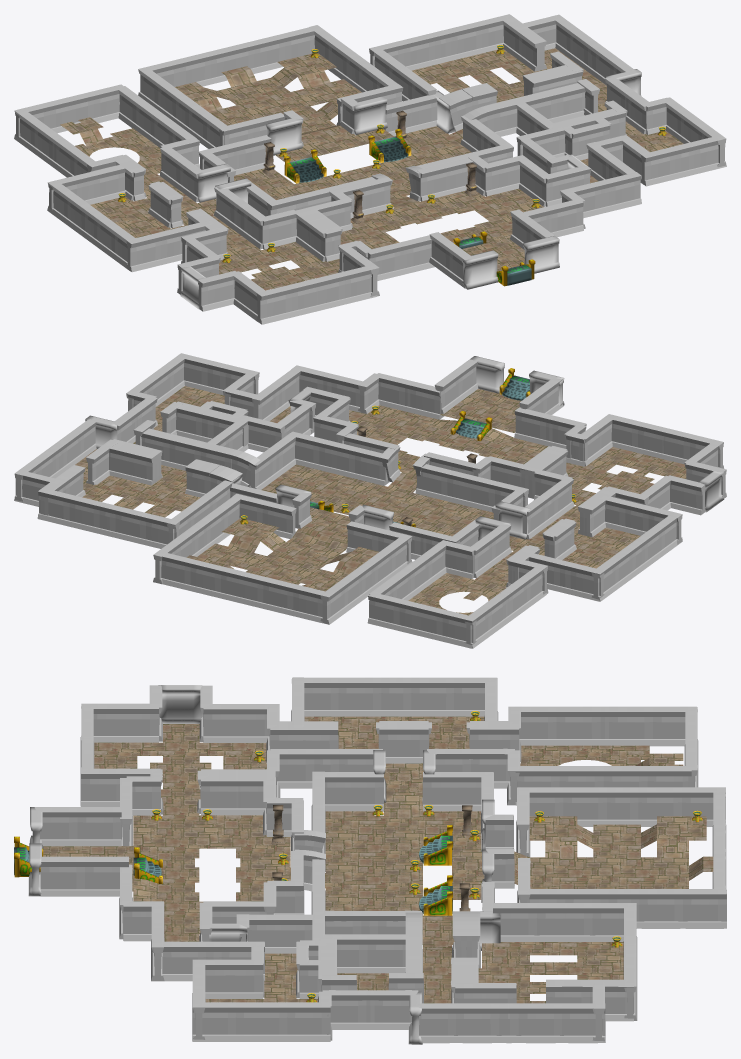
File: Level2-ForbiddenTemple.FBX
The picture shows the model from 3 angles, top to bottom: view 1: azimuth 30°, elevation 25°; view 2: azimuth 150°, elevation 25°; view 3: azimuth 270°, elevation 25°; orthographic projection. The views are drawn at different scales.
Parts seen in each view (by area): view 1: Wall001, 0_Floor, Stairs001, Column023, Cauldron001; view 2: Wall001, 0_Floor, Stairs001; view 3: Wall001, 0_Floor, Stairs001, Cauldron001, Column023.
Boxes of the visible parts, x1,y1,x2,y2 form: Wall001: (14, 14, 726, 324); 0_Floor: (60, 48, 683, 290); Stairs001: (284, 128, 535, 286); Column023: (262, 110, 478, 223); Cauldron001: (117, 45, 666, 263); Wall001: (14, 353, 726, 648); 0_Floor: (75, 386, 686, 615); Stairs001: (310, 368, 530, 527); Wall001: (28, 677, 726, 1044); 0_Floor: (43, 716, 713, 1003); Stairs001: (14, 825, 452, 915); Cauldron001: (151, 711, 702, 1002); Column023: (271, 805, 472, 911).
Bounding box in the file's own units: 10787 × 714 × 9762.
